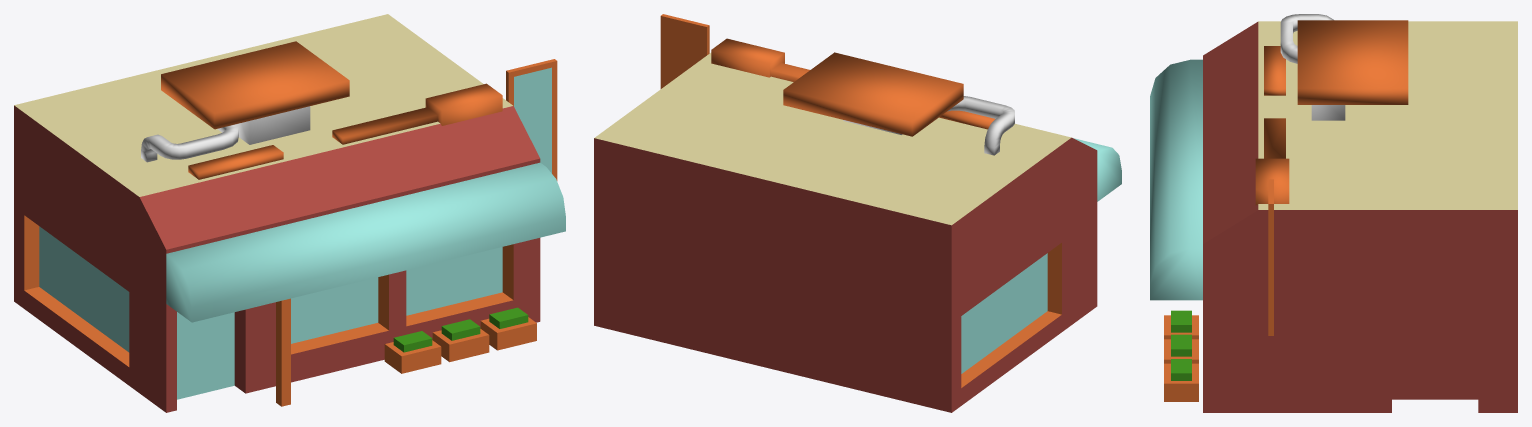
The model's file is SceneComplex_Building_Shop.fbx.
3 renders of one model, left to right at view 1: azimuth 30°, elevation 25°; view 2: azimuth 150°, elevation 25°; view 3: azimuth 270°, elevation 25°, orthographic. The views are drawn at different scales.
Visible parts, largest first — view 1: Cube.023; view 2: Cube.023; view 3: Cube.023.
Part boxes in pixels (<box>): Cube.023: <box>14,14,565,412</box>; Cube.023: <box>594,14,1121,412</box>; Cube.023: <box>1150,14,1517,412</box>.
Size of the model in its own units: 226 by 124 by 165.
